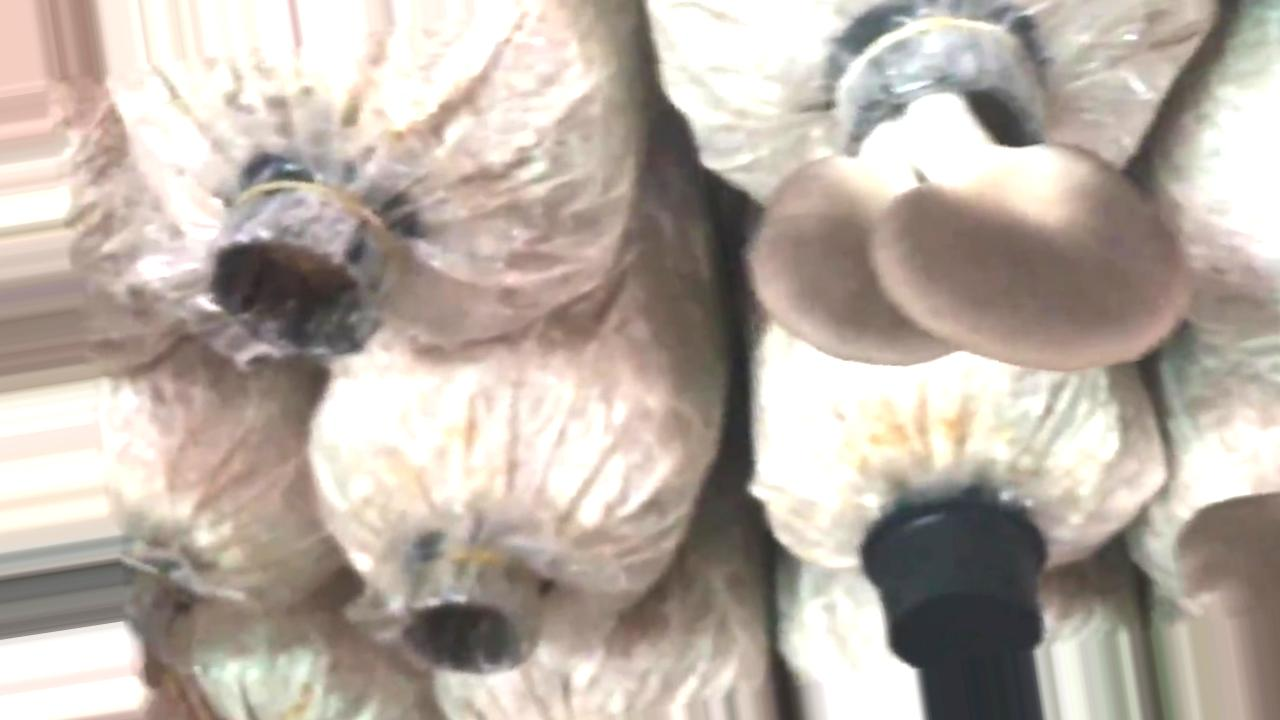nam: (757, 9, 1178, 370)
